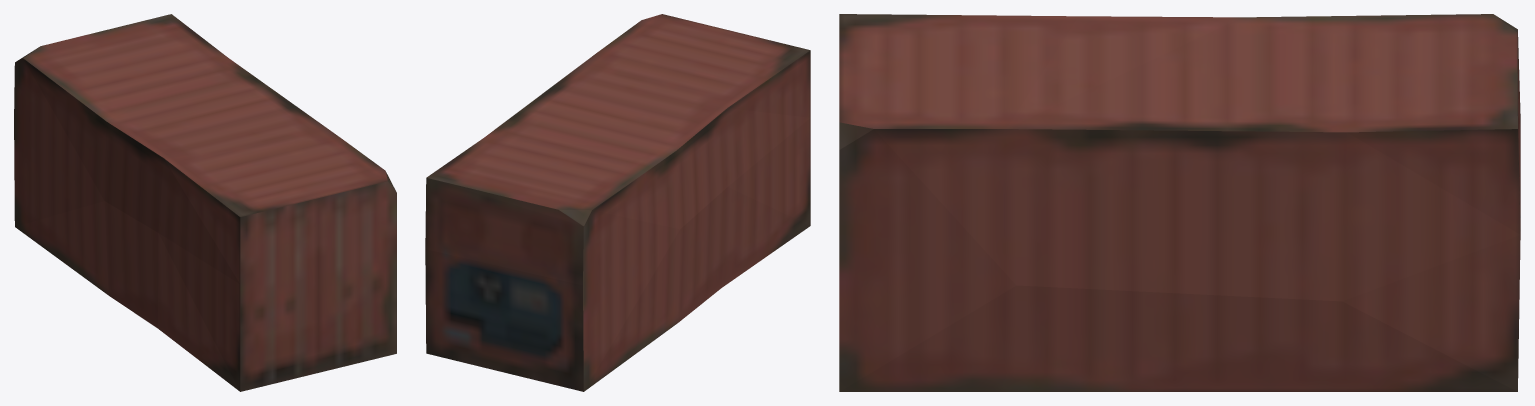
The model's file is 集装箱.glb.
3 renders of one model, left to right at view 1: azimuth 30°, elevation 25°; view 2: azimuth 150°, elevation 25°; view 3: azimuth 270°, elevation 25°, orthographic. The views are drawn at different scales.
Parts seen in each view (by area): view 1: 集装箱; view 2: 集装箱; view 3: 集装箱.
Boxes of the visible parts, x1,y1,x2,y2 form: 集装箱: (14, 14, 396, 391); 集装箱: (425, 14, 810, 391); 集装箱: (839, 14, 1520, 391).
Size of the model in its own units: 2.95 by 3.02 by 7.1.
1 material, 1 textured.
